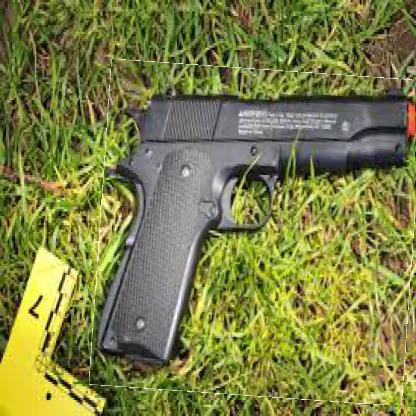gun: (94, 65, 415, 402)
